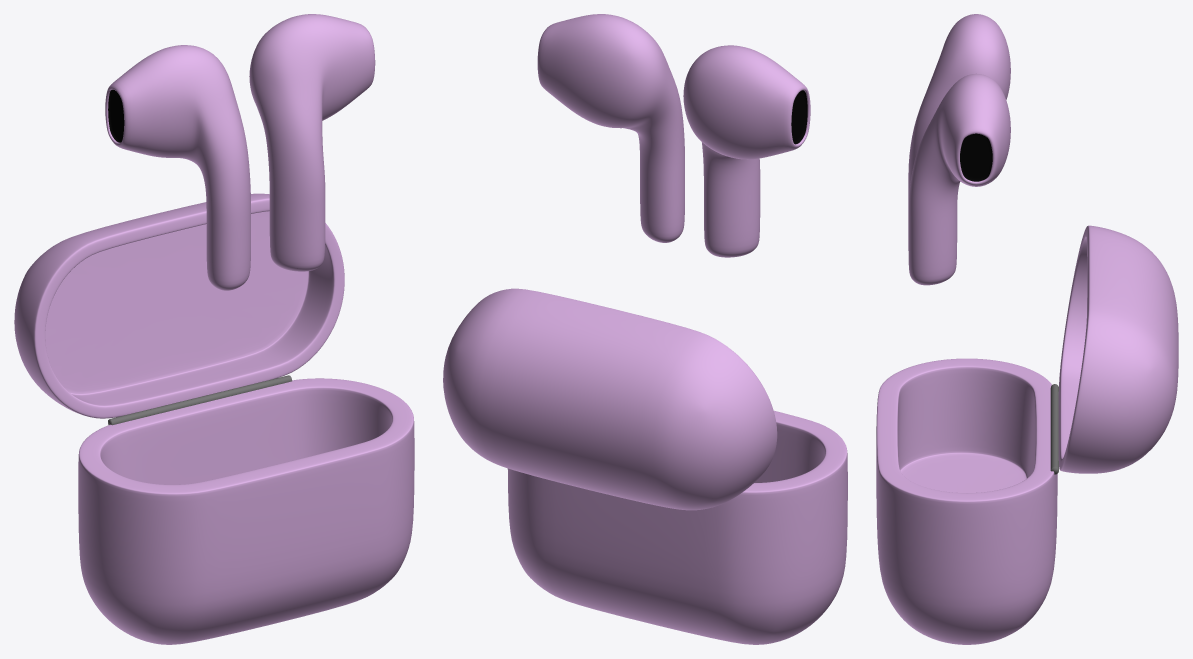
Rendered from airpods.glb.
3 views of the same model, side by side, from view 1: azimuth 30°, elevation 25°; view 2: azimuth 150°, elevation 25°; view 3: azimuth 270°, elevation 25° (orthographic). The views are drawn at different scales.
Parts seen in each view (by area): view 1: Cube.002, Cube.003, Cube.001, Cube, Cylinder; view 2: Cube.003, Cube.002, Cube.001, Cube; view 3: Cube.002, Cube.003, Cube.001, Cube, Cylinder.
Part boxes in pixels (x1,y1,x2,y2): Cube.002: [78, 378, 414, 644]; Cube.003: [14, 193, 344, 418]; Cube.001: [249, 14, 375, 271]; Cube: [105, 45, 250, 290]; Cylinder: [108, 375, 292, 425]; Cube.003: [443, 288, 777, 510]; Cube.002: [507, 410, 847, 644]; Cube.001: [537, 14, 684, 242]; Cube: [683, 45, 810, 257]; Cube.002: [876, 358, 1057, 644]; Cube.003: [1058, 225, 1178, 473]; Cube.001: [908, 73, 1010, 285]; Cube: [908, 14, 1010, 209]; Cylinder: [1050, 384, 1058, 474].
Bounding box in the file's own units: 1.69 × 3.03 × 1.5.
